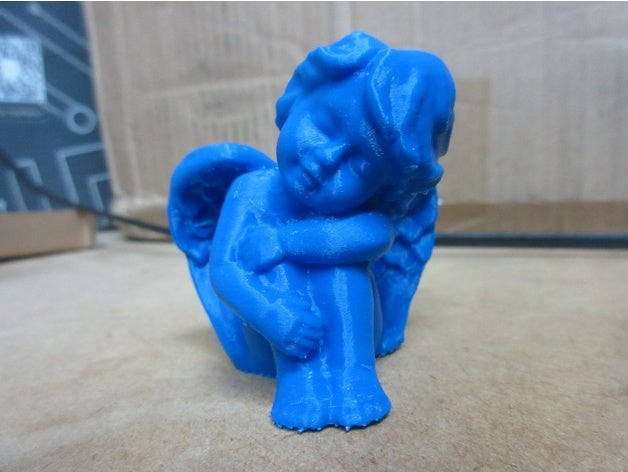Good: (141, 19, 476, 444)
